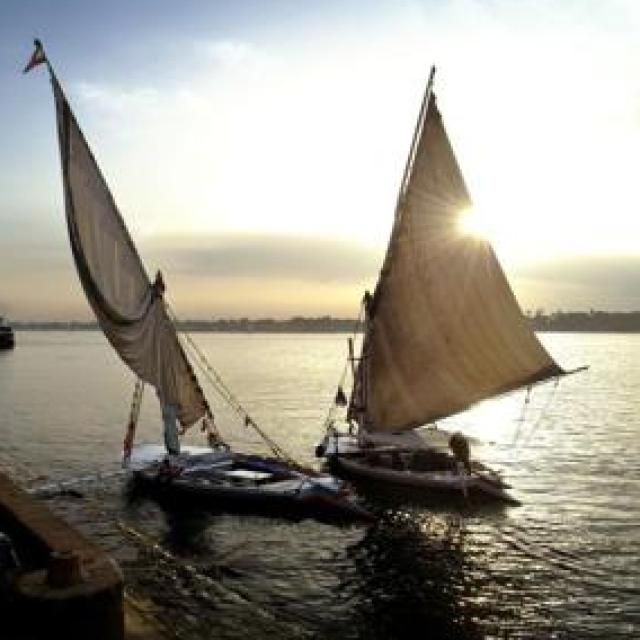sailboat: (27, 34, 351, 510), (325, 52, 544, 498)
